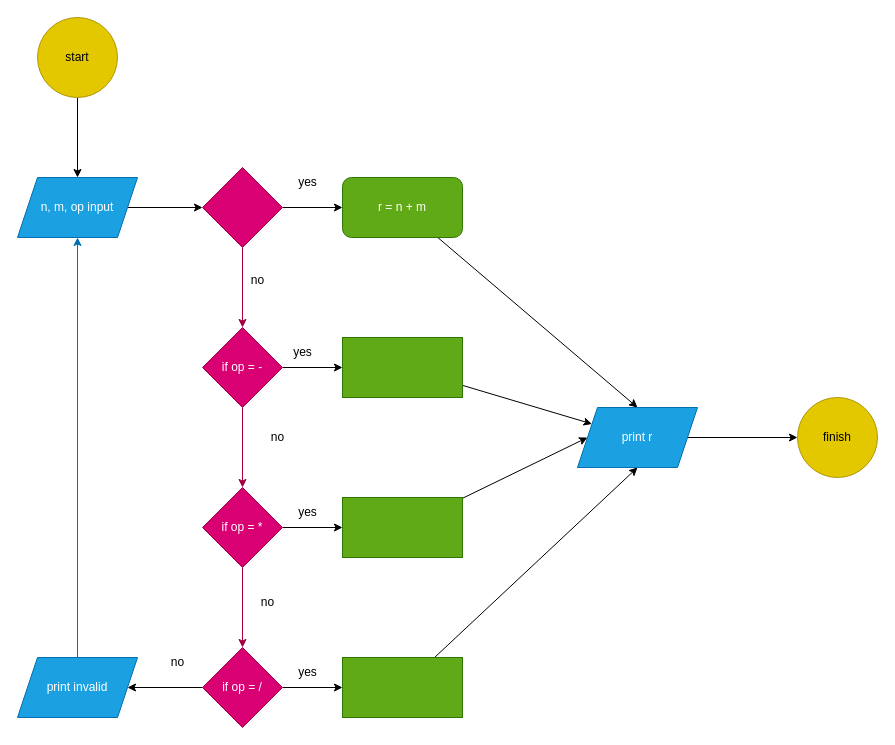
Some shapes in this 895 by 745 pixel diagram are drawn without their labels. The shapes that lost their labels are listed below. From the top down, each one's centre as x and y in pixels, then its label:
pixel 242 207: if op = +
pixel 402 367: r = n - m
pixel 402 527: r = n * m
pixel 402 687: r = n / m
